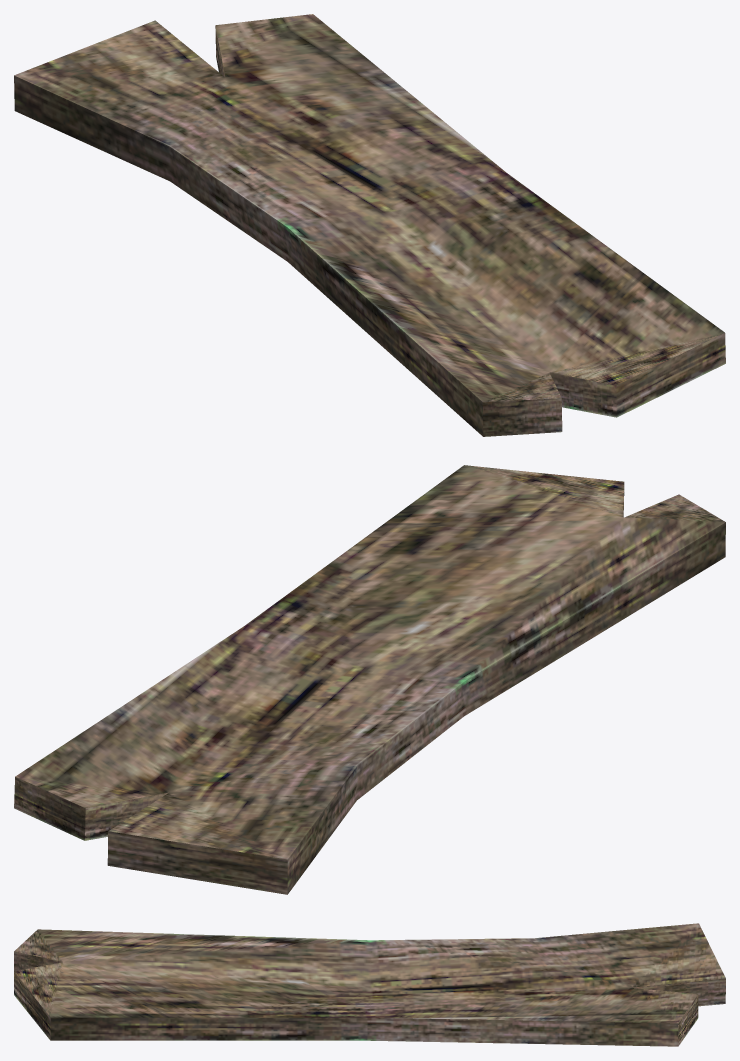
The model's file is INST_WH_FLOATBIT_01.fbx.
3 renders of one model, top to bottom at view 1: azimuth 30°, elevation 25°; view 2: azimuth 150°, elevation 25°; view 3: azimuth 270°, elevation 25°, orthographic. The views are drawn at different scales.
Visible parts, largest first — view 1: INST_WH_FLOATBIT_01; view 2: INST_WH_FLOATBIT_01; view 3: INST_WH_FLOATBIT_01.
Part boxes in pixels (x1,y1,x2,y2): INST_WH_FLOATBIT_01: (14,14,725,436); INST_WH_FLOATBIT_01: (14,465,725,894); INST_WH_FLOATBIT_01: (14,923,725,1046).
Size of the model in its own units: 9859 by 1508 by 29077.
1 material, 1 textured.
